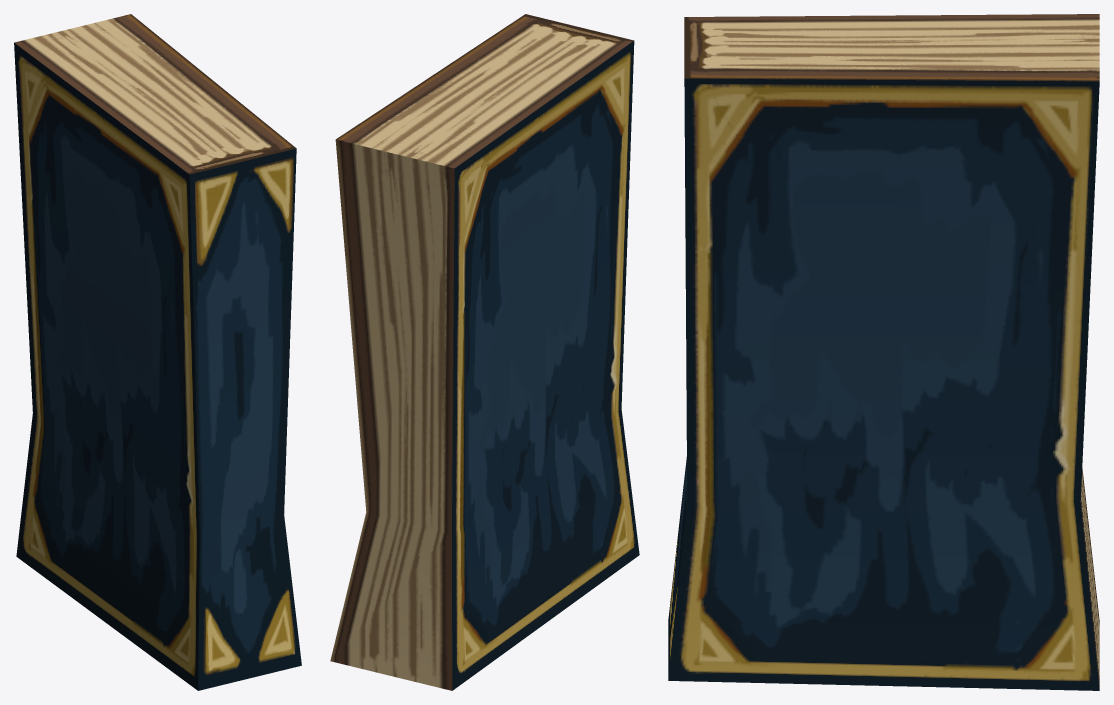
File: SM_PROP_book_dungeon_02.fbx
3 views of the same model, side by side, from view 1: azimuth 30°, elevation 25°; view 2: azimuth 150°, elevation 25°; view 3: azimuth 270°, elevation 25° (orthographic). The views are drawn at different scales.
Parts seen in each view (by area): view 1: SM_PROP_book_dungeon_02; view 2: SM_PROP_book_dungeon_02; view 3: SM_PROP_book_dungeon_02.
Part boxes in pixels (x1,y1,x2,y2): SM_PROP_book_dungeon_02: (14,14,301,690); SM_PROP_book_dungeon_02: (330,14,639,690); SM_PROP_book_dungeon_02: (668,14,1099,690).
Bounding box in the file's own units: 8.29 × 33.16 × 21.38.
